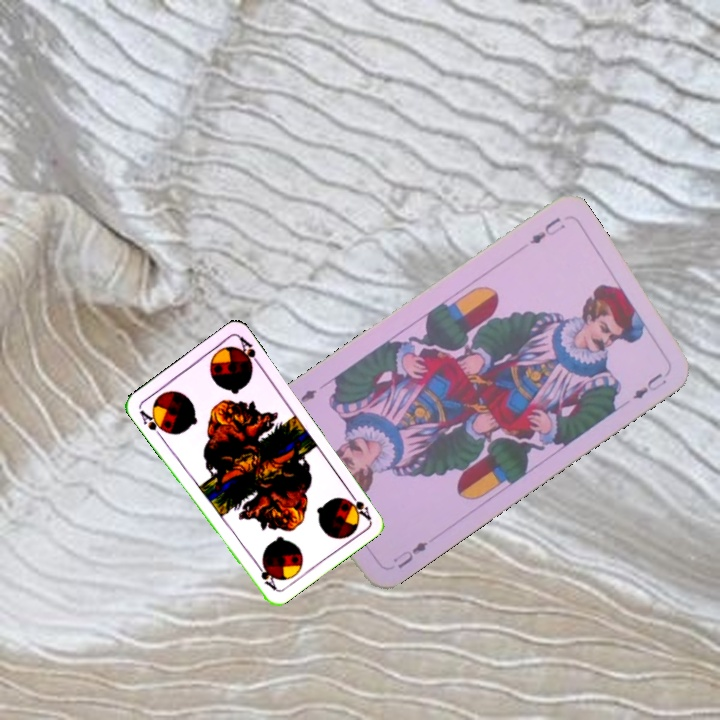EU: (525, 213, 569, 247), (389, 537, 430, 572)
SA: (135, 406, 169, 440), (344, 486, 374, 522)
